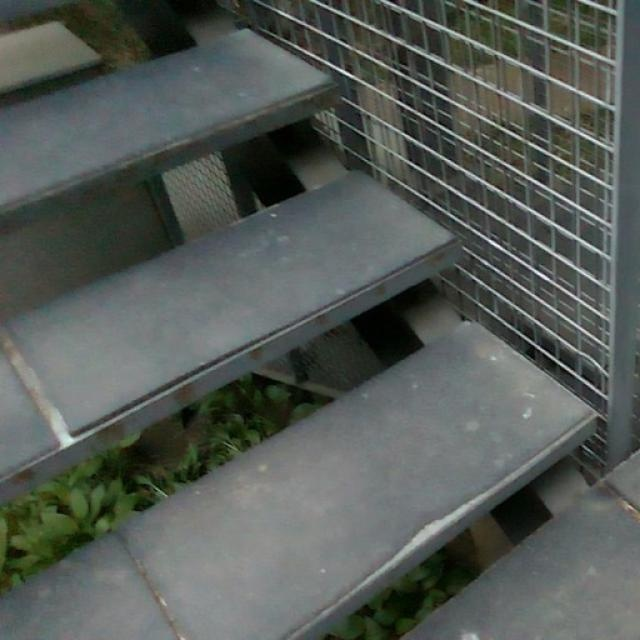stair: (3, 58, 589, 597)
